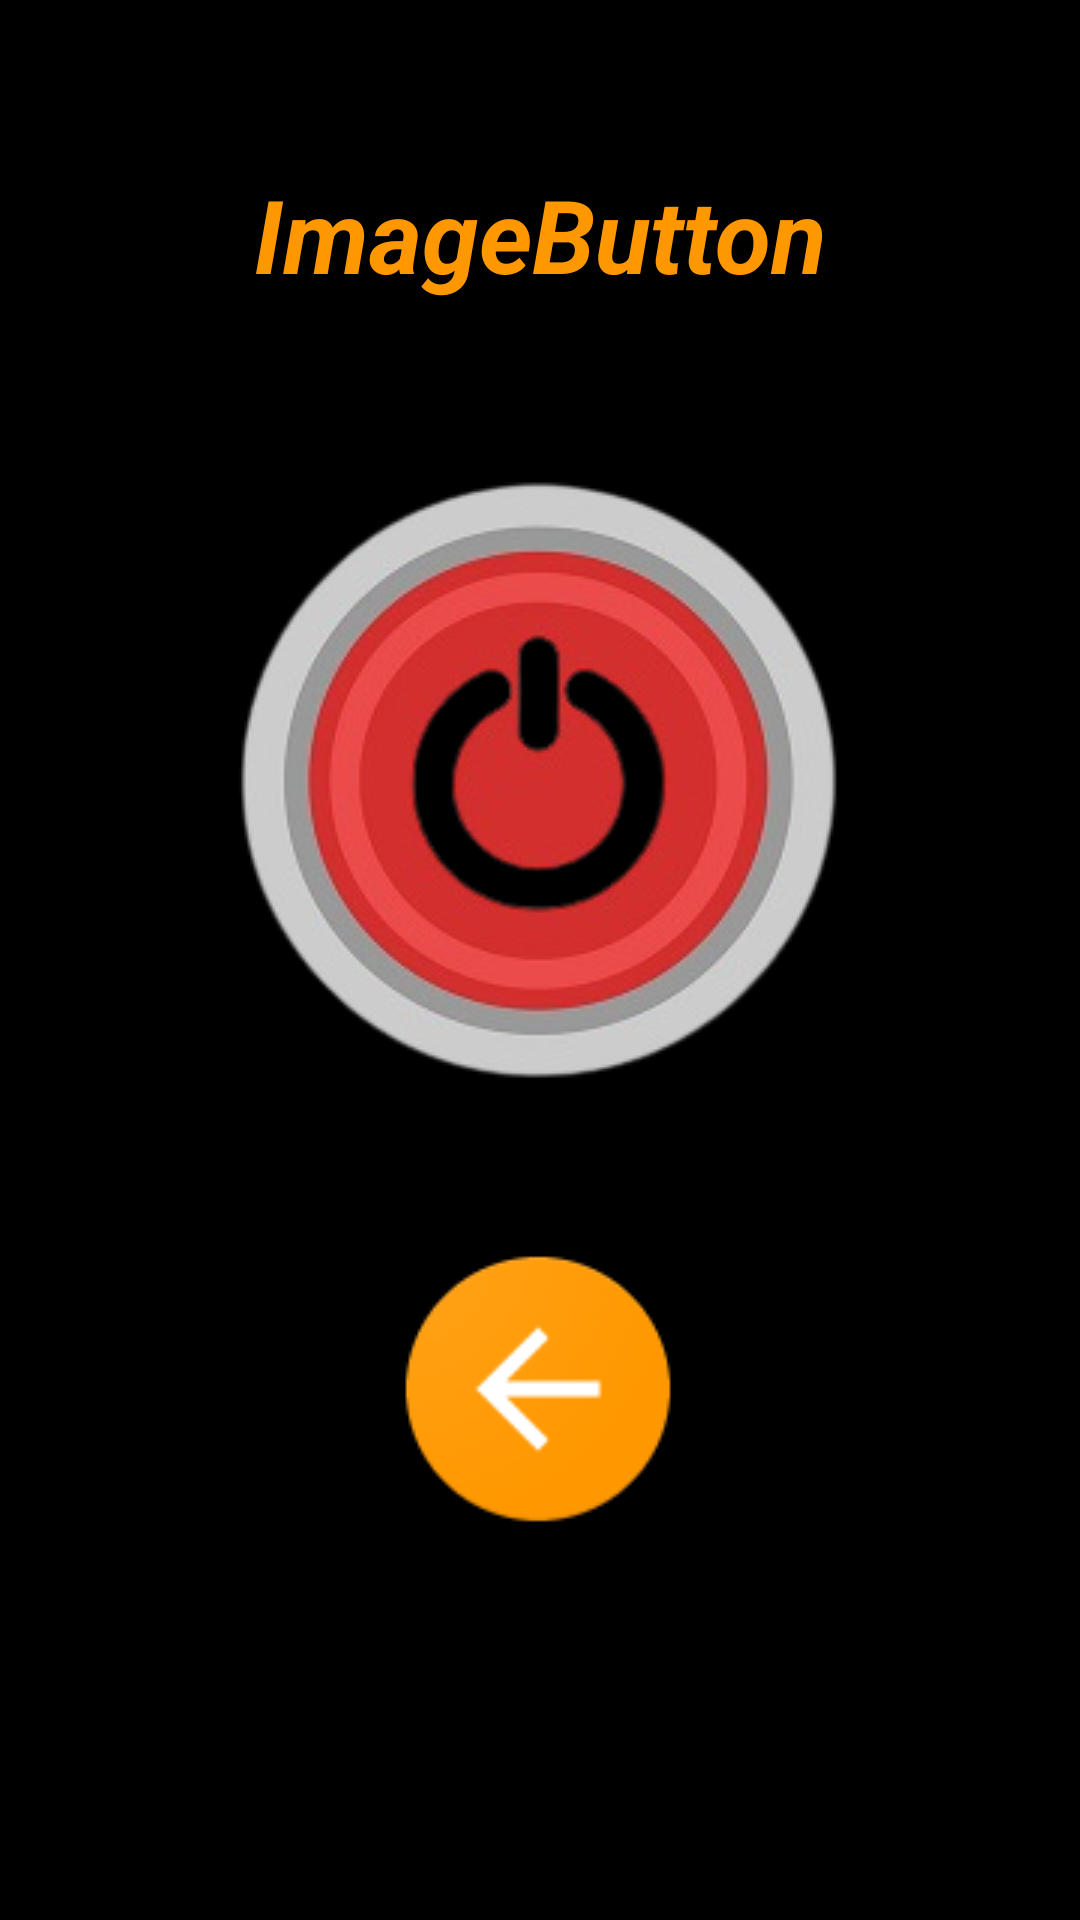

Where to tap for icons on this 1080 x 1920 app screen, as point (x, y):
ret: point (538, 1389)
